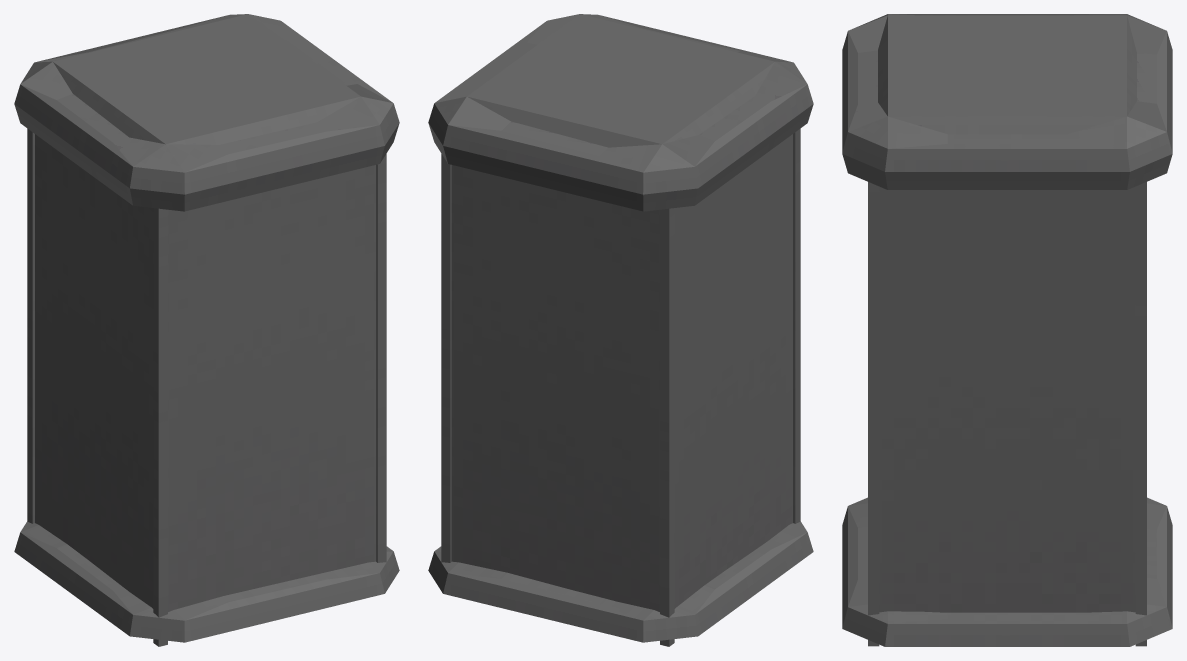
Rendered from waystone.glb.
3 renders of one model, left to right at view 1: azimuth 30°, elevation 25°; view 2: azimuth 150°, elevation 25°; view 3: azimuth 270°, elevation 25°, orthographic. The views are drawn at different scales.
Visible parts, largest first — view 1: group, beveled_cuboid (×3); view 2: group, beveled_cuboid (×3); view 3: group, beveled_cuboid (×3).
Part boxes in pixels (bbox=[...]): group: bbox=[27, 128, 386, 646]; beveled_cuboid (×3): bbox=[14, 14, 399, 642]; group: bbox=[441, 128, 800, 646]; beveled_cuboid (×3): bbox=[428, 14, 813, 642]; group: bbox=[868, 182, 1146, 646]; beveled_cuboid (×3): bbox=[842, 14, 1172, 646].
Size of the model in its own units: 29 by 50.5 by 29.
Materials: 1 (1 with a texture image).
